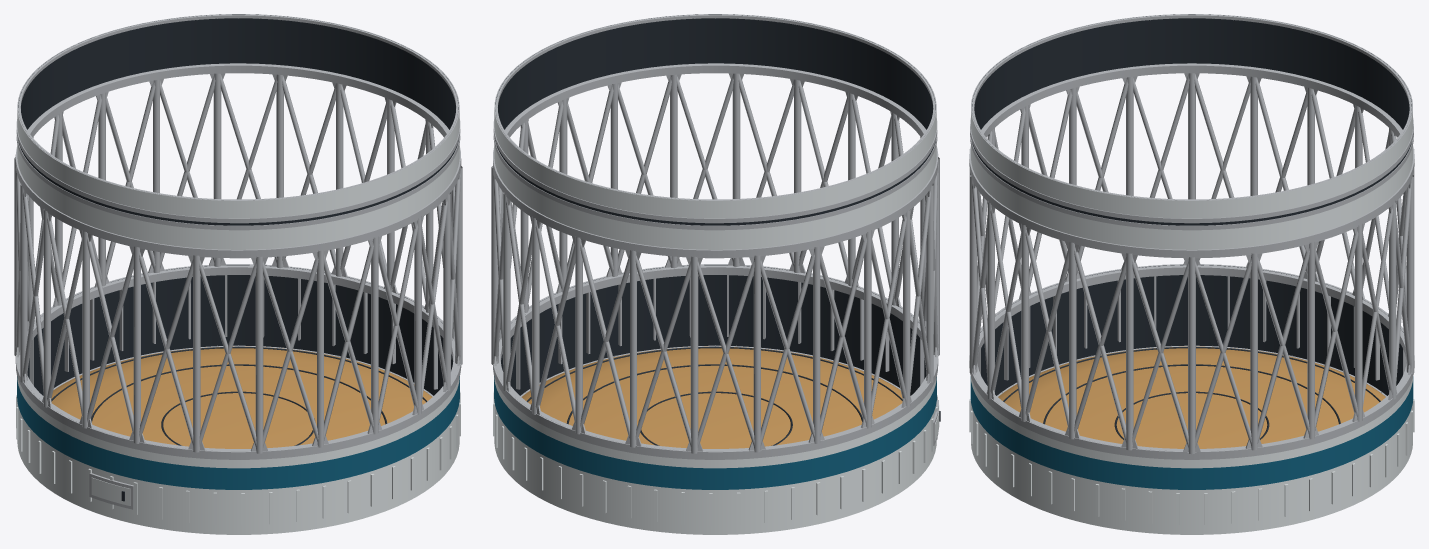
The model's file is interstage_hot_staging_d84.fbx.
3 renders of one model, left to right at view 1: azimuth 30°, elevation 25°; view 2: azimuth 150°, elevation 25°; view 3: azimuth 270°, elevation 25°, orthographic.
Parts seen in each view (by area): view 1: interstage_hot_staging_d84_LOD0; view 2: interstage_hot_staging_d84_LOD0; view 3: interstage_hot_staging_d84_LOD0.
Part boxes in pixels (bbox=[...]): interstage_hot_staging_d84_LOD0: bbox=[14, 14, 462, 534]; interstage_hot_staging_d84_LOD0: bbox=[491, 14, 940, 534]; interstage_hot_staging_d84_LOD0: bbox=[969, 14, 1414, 534].
Size of what is drawn, in the model's own units: 8.53 by 7 by 8.46.
